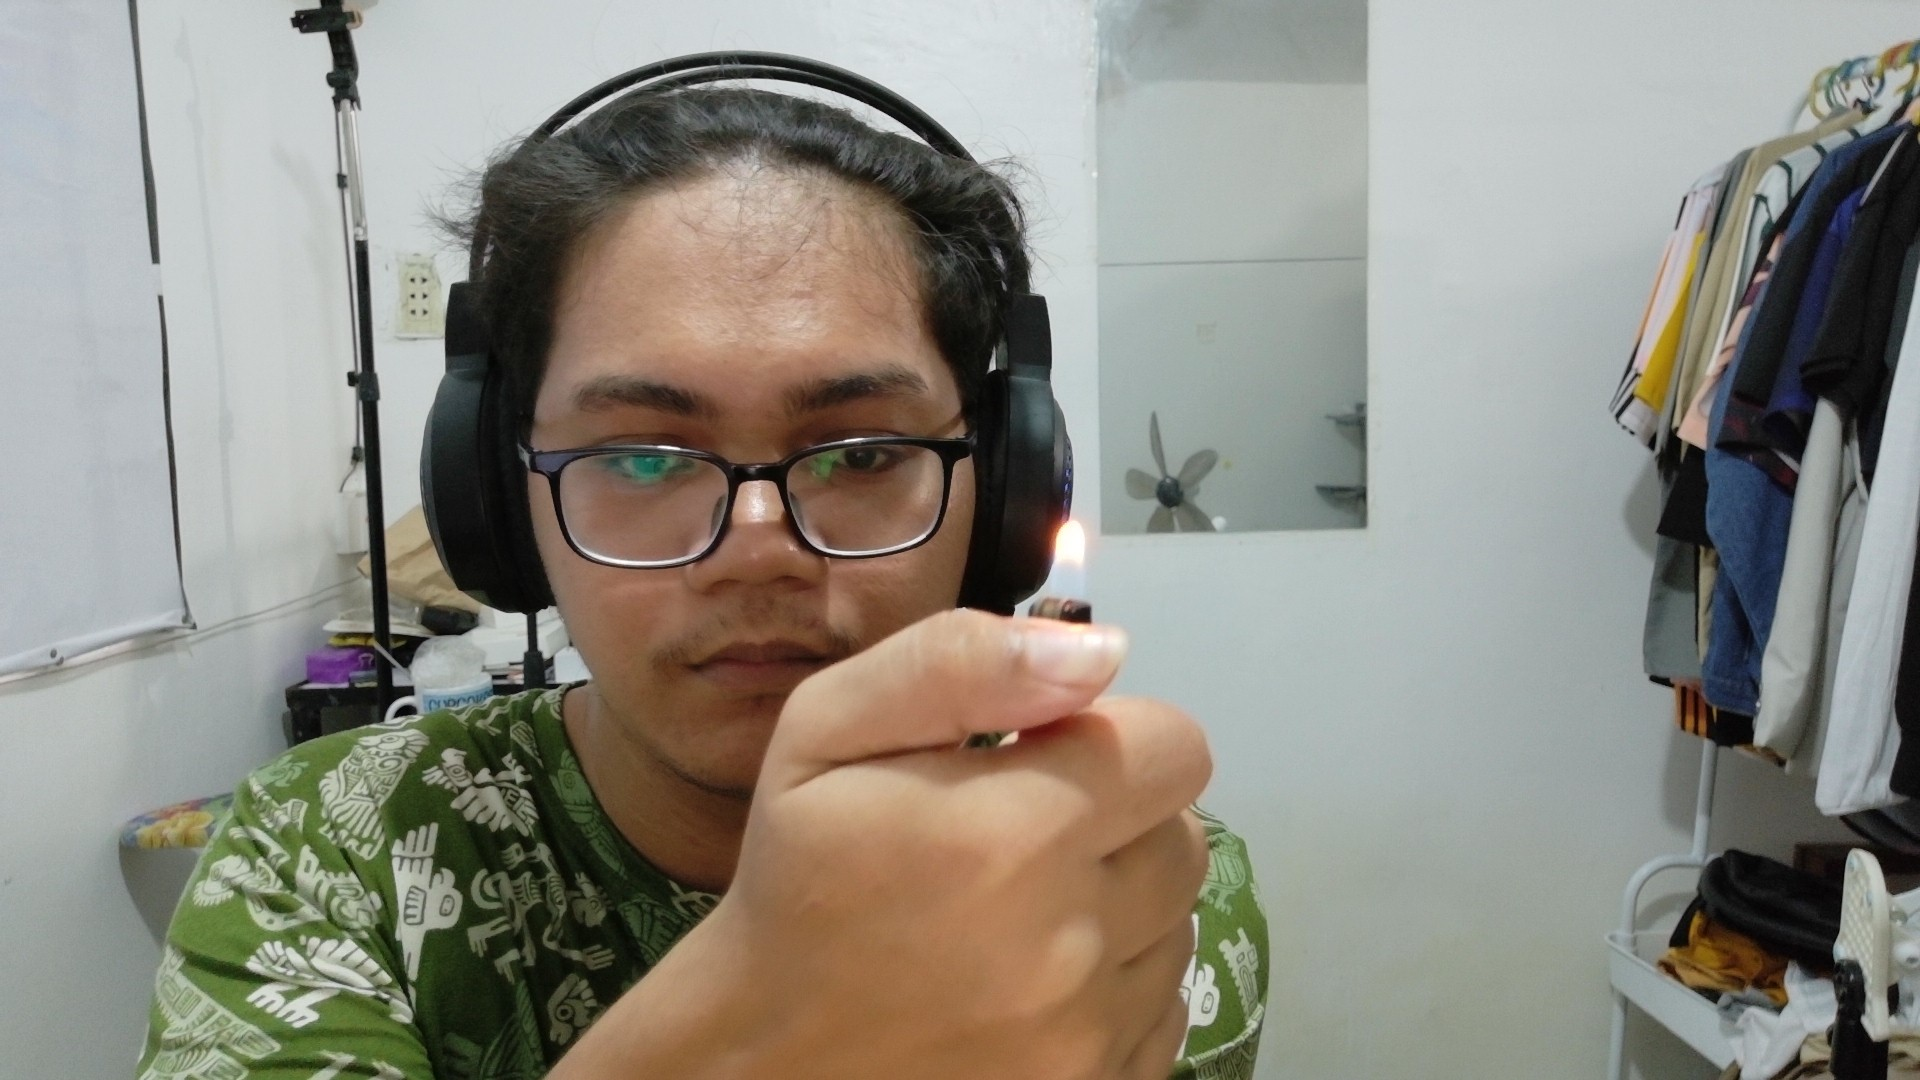fire: (1009, 468, 1168, 652)
